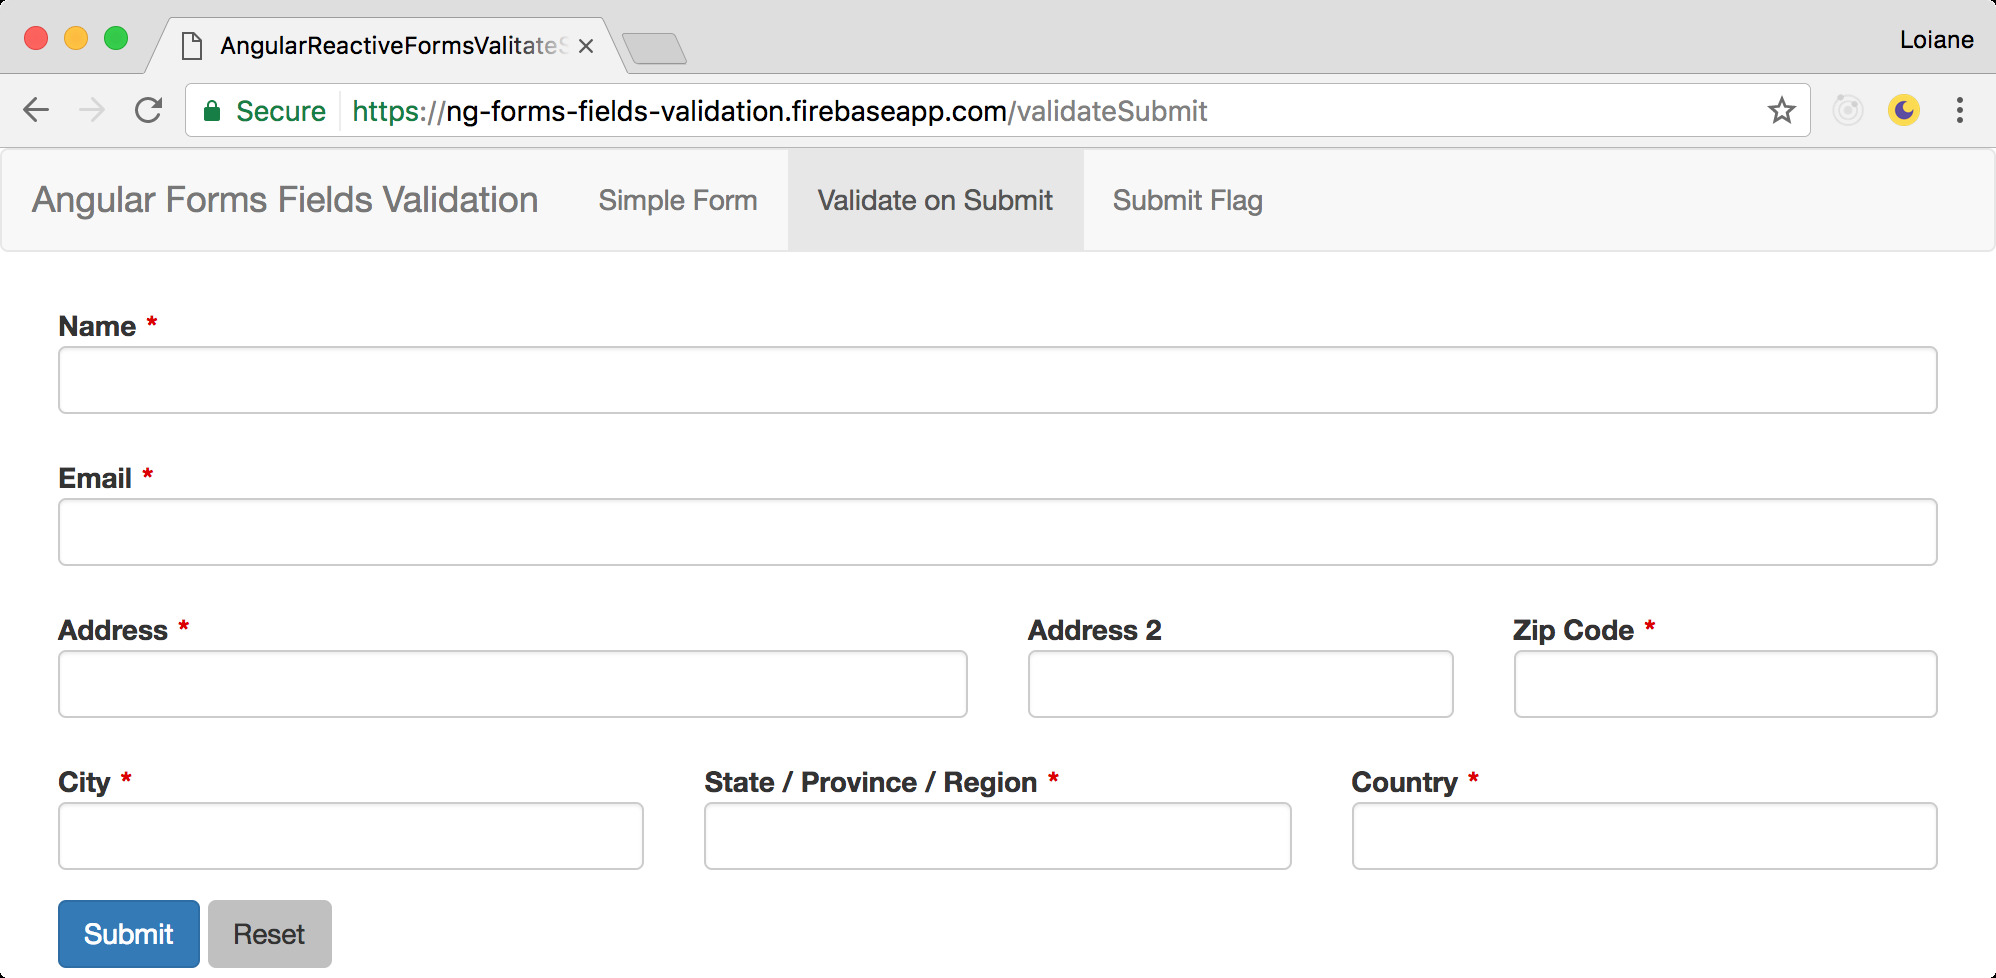_form_: (38, 442, 987, 978), (1011, 442, 1959, 978)
button: (52, 895, 205, 974), (205, 898, 337, 974)
field: (52, 340, 1944, 422), (48, 495, 1940, 570), (51, 646, 967, 723), (1344, 796, 1949, 879), (701, 795, 1298, 877), (51, 795, 645, 874), (1016, 643, 1458, 726), (1511, 643, 1943, 723)
field_with_label: (46, 311, 1957, 427), (46, 464, 1946, 577), (48, 613, 971, 725), (1339, 765, 1949, 885), (696, 767, 1304, 884), (47, 768, 645, 877), (1016, 615, 1459, 732), (1508, 616, 1948, 727)
